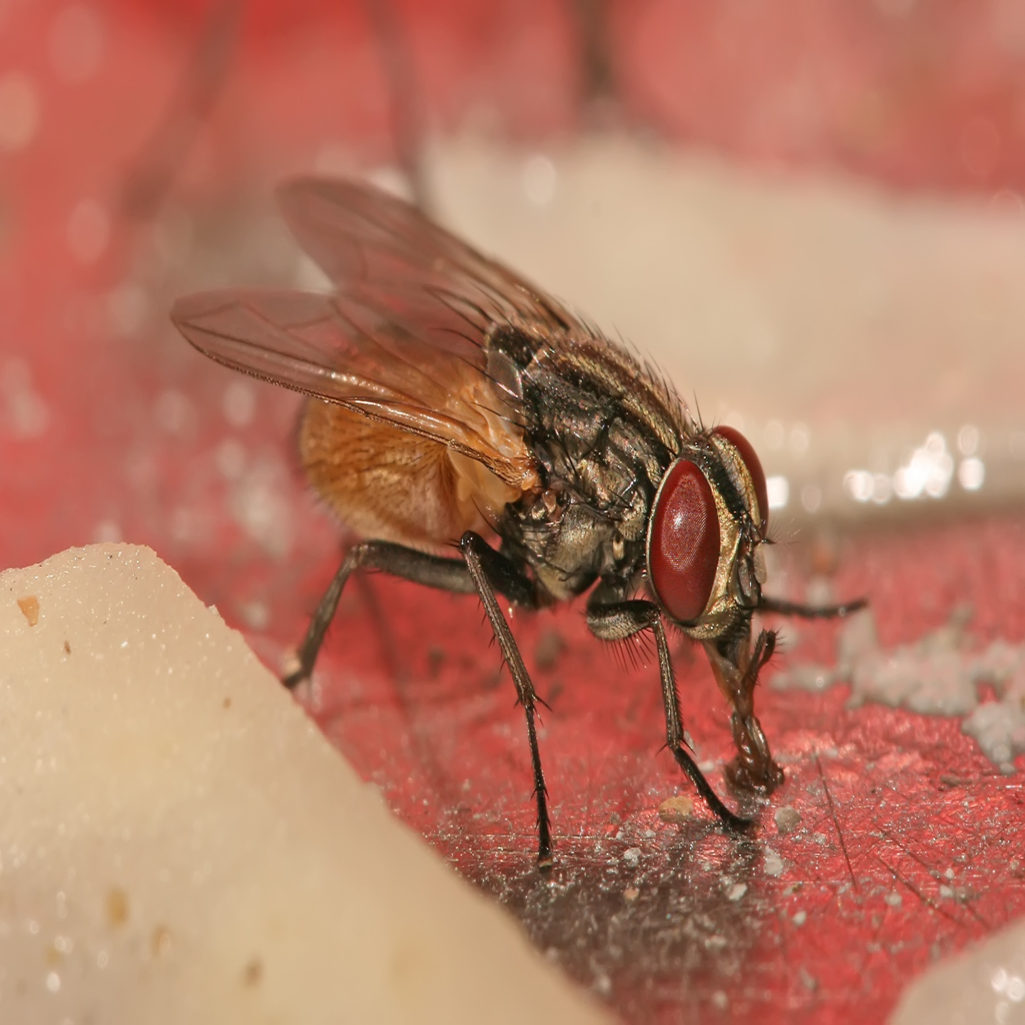house fly: (130, 148, 875, 861)
